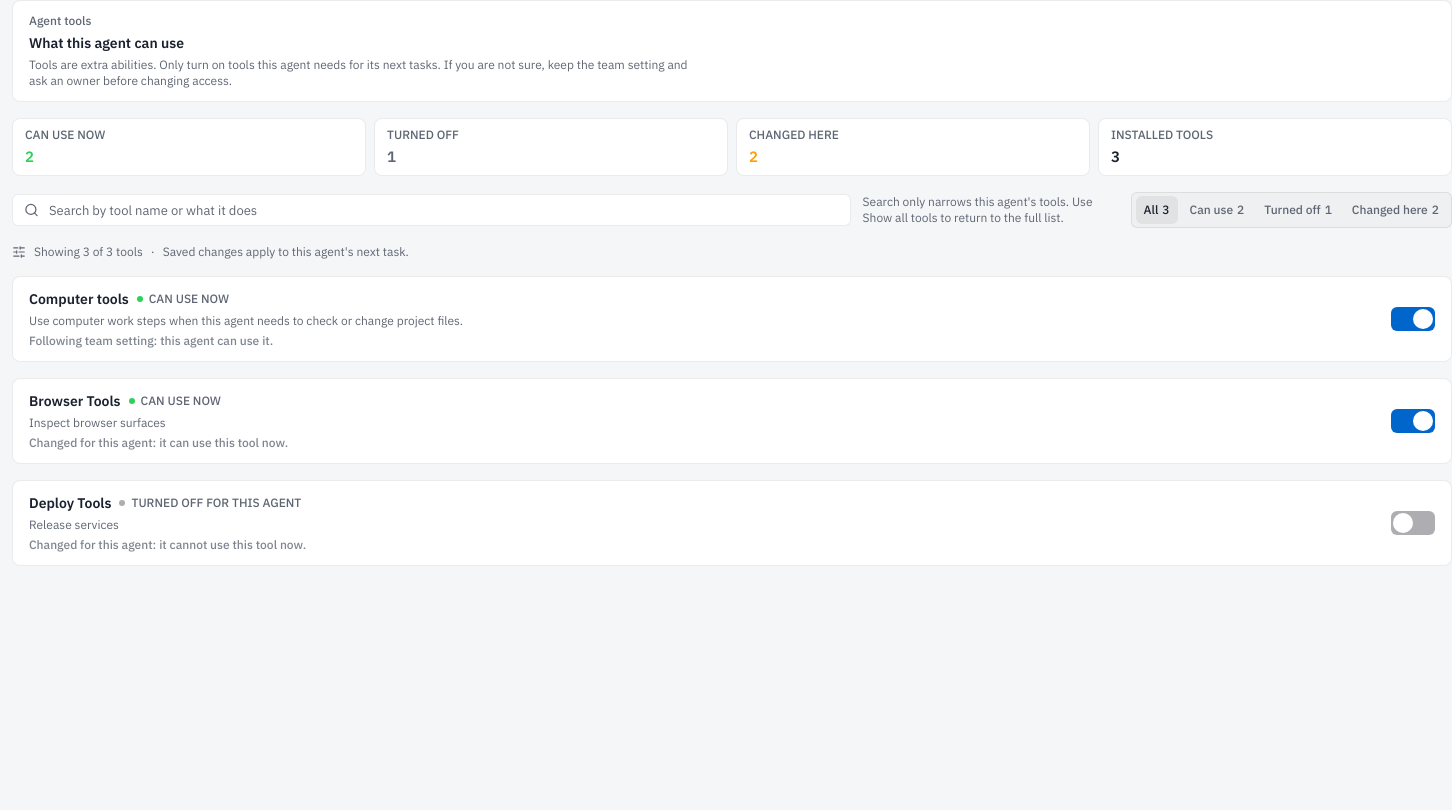
Test case: AgentPluginsTab › explains failed tool changes and restores the previous switch state
The width and height of the screenshot is (1452, 810).
Step 1. Click the switch named "turn off computer tools for this agent" → (1413, 319), box [1391,307,1435,331]
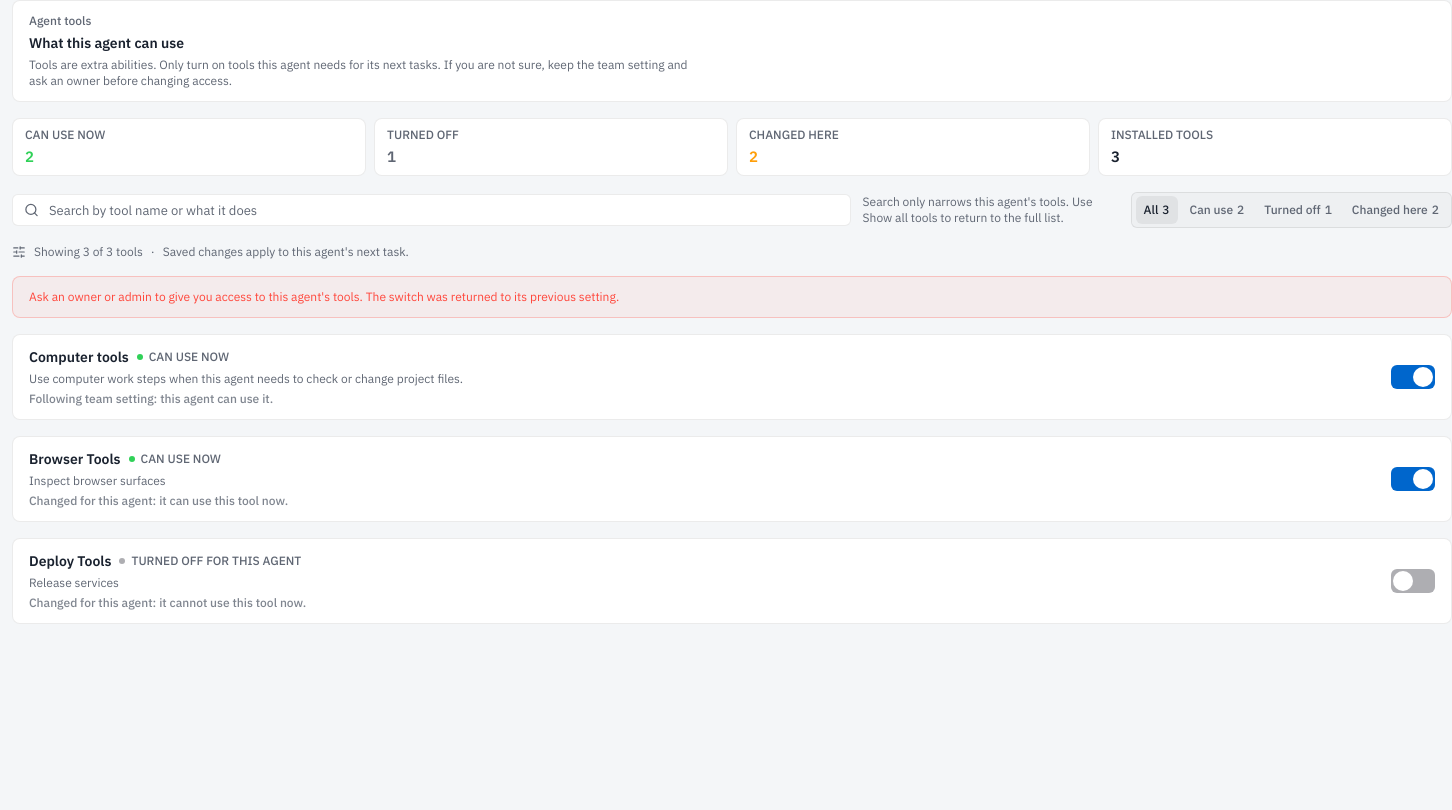
Result: the message shows "The switch was returned to its previous setting." at [29,289,619,304]
Result: the message shows "Ask an owner or admin to give you access to this agent's tools." at [29,289,619,304]
